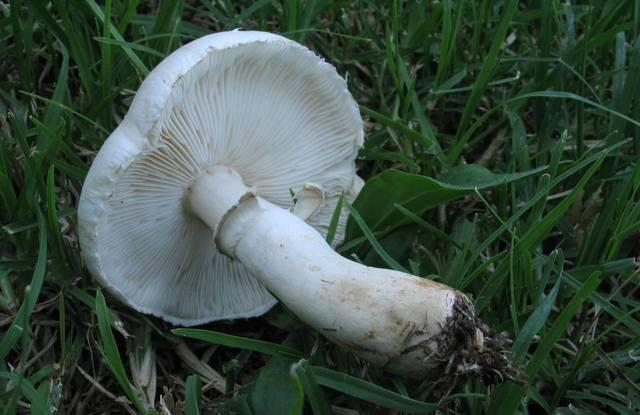Non-edible Mushroom: (75, 27, 495, 374)
